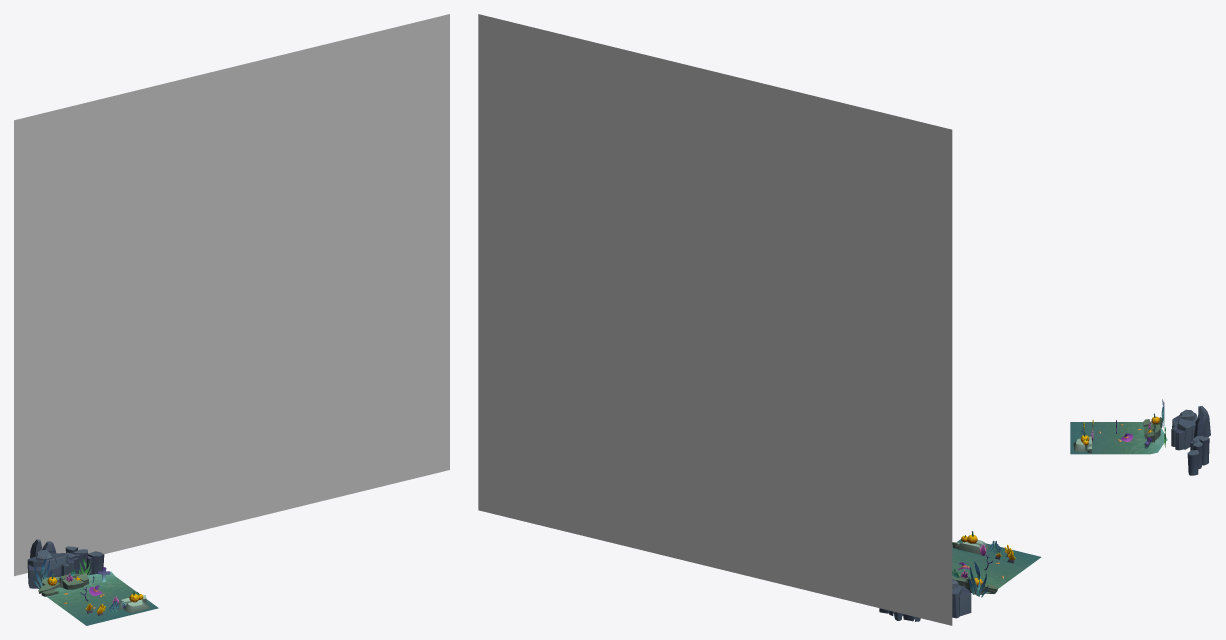
File: Map_Midnight Rift_Model.fbx
3 renders of one model, left to right at view 1: azimuth 30°, elevation 25°; view 2: azimuth 150°, elevation 25°; view 3: azimuth 270°, elevation 25°, orthographic. The views are drawn at different scales.
Parts seen in each view (by area): view 1: back ground002, object002, surface006; view 2: back ground002, object002, surface006; view 3: object002, surface006.
Part boxes in pixels (left/top/right/bottom): back ground002: left=14, top=14, right=449, bottom=576; object002: left=27, top=539, right=150, bottom=615; surface006: left=46, top=571, right=158, bottom=625; back ground002: left=478, top=14, right=952, bottom=625; object002: left=879, top=531, right=1015, bottom=621; surface006: left=952, top=539, right=1041, bottom=593; object002: left=1073, top=399, right=1210, bottom=475; surface006: left=1070, top=422, right=1167, bottom=454.
Bounding box in the file's own units: 10370 × 10445 × 3130.
